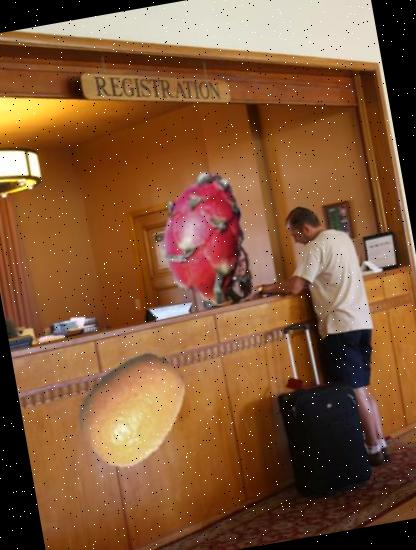Kumquats: (63, 340, 202, 478)
Pitahaya: (127, 165, 278, 316)
